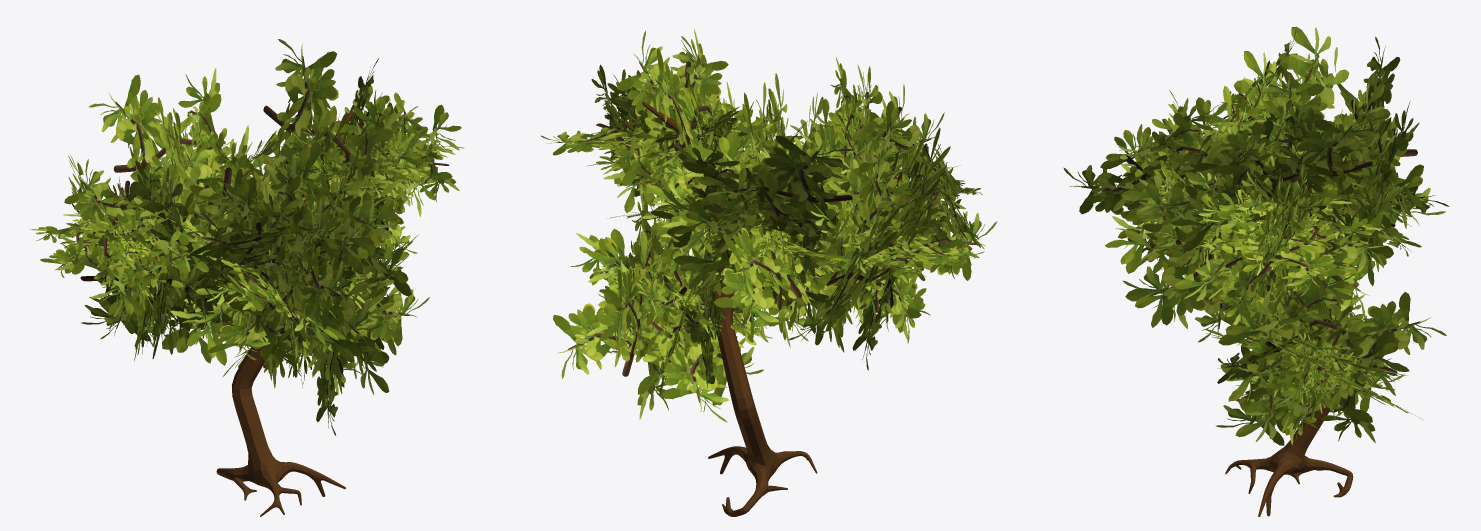
File: Tree1.fbx
3 views of the same model, side by side, from view 1: azimuth 30°, elevation 25°; view 2: azimuth 150°, elevation 25°; view 3: azimuth 270°, elevation 25° (orthographic). The views are drawn at different scales.
Visible parts, largest first — view 1: Tree 2 Leaves; view 2: Tree 2 Leaves; view 3: Tree 2 Leaves.
Part boxes in pixels (x1,y1,x2,y2): Tree 2 Leaves: [29, 39, 464, 516]; Tree 2 Leaves: [541, 28, 997, 516]; Tree 2 Leaves: [1063, 26, 1449, 516].
Bounding box in the file's own units: 343 × 325 × 290.
